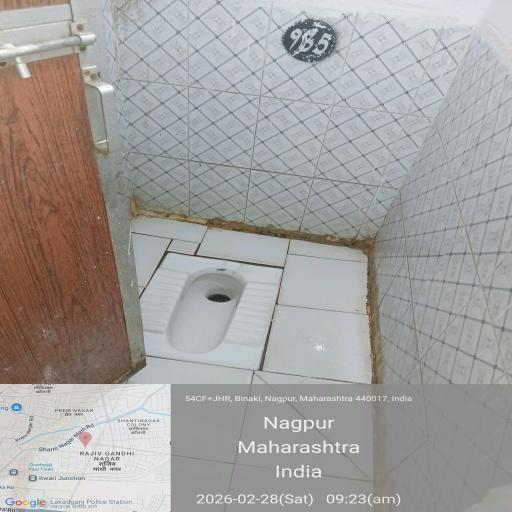clean_floor: (5, 28, 482, 218), (54, 241, 379, 505)
clean_indian: (105, 252, 303, 370)
